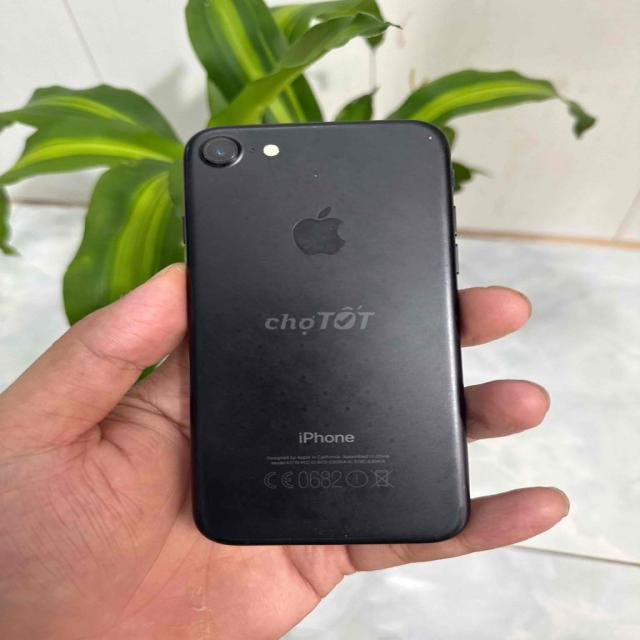gen_7_8: (176, 118, 472, 550)
scratch: (409, 125, 441, 145), (302, 160, 331, 181)
